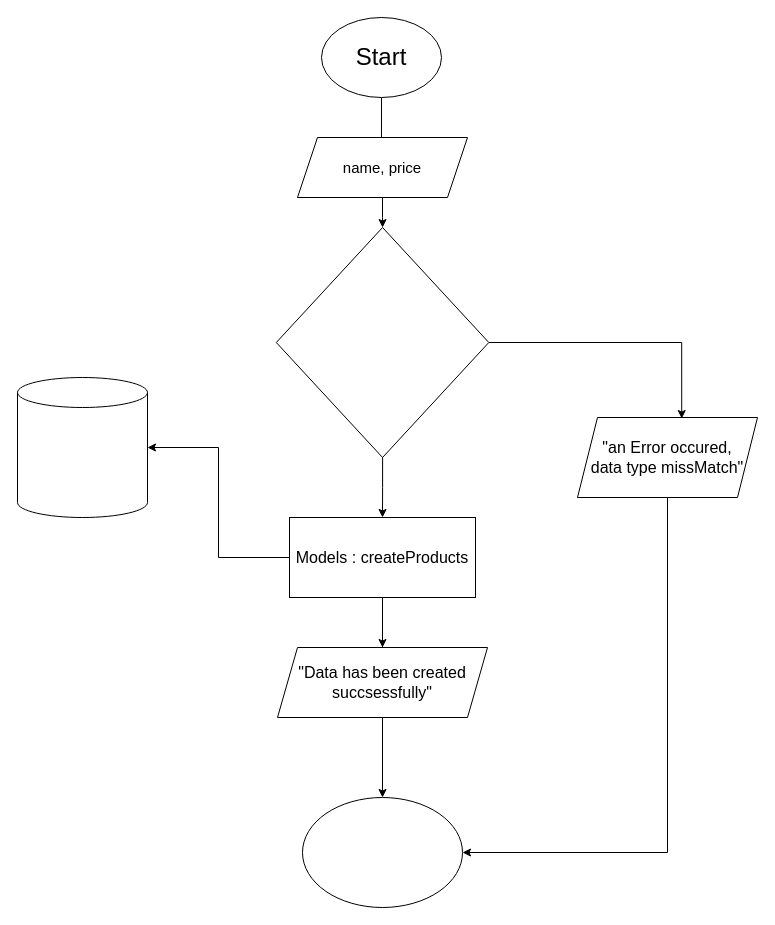
This 775x925 diagram has some shape labels left out. Each missing label, with the centre of its shape:
DB: the point at 82,447
End: the point at 382,852
typeof name ===string && typeof price==="number: the point at 382,342
